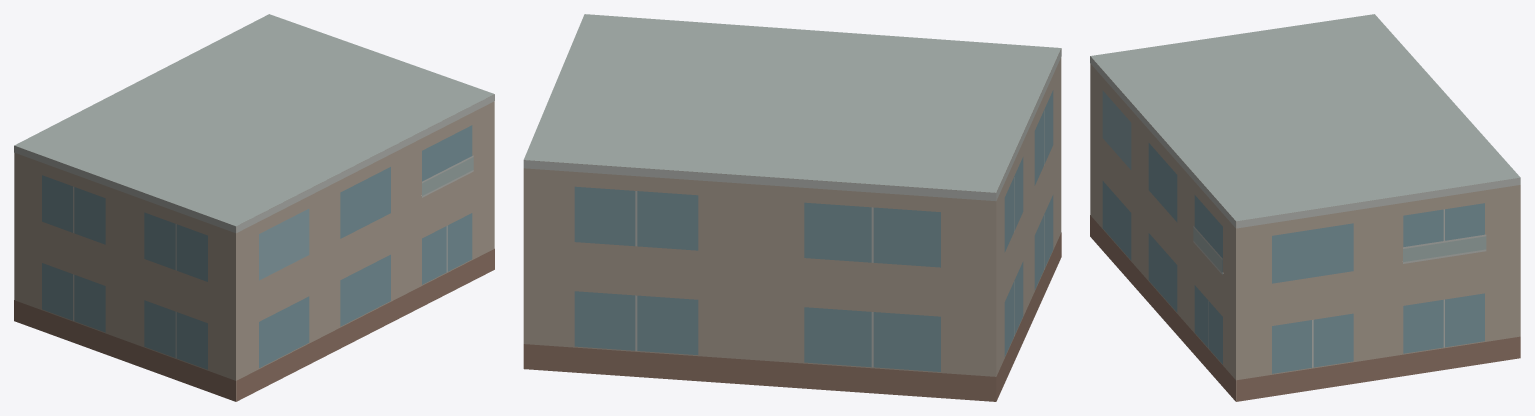
File: survey-upis-32942415.glb
The picture shows the model from 3 angles, left to right: view 1: azimuth 30°, elevation 25°; view 2: azimuth 150°, elevation 25°; view 3: azimuth 270°, elevation 25°; orthographic projection. The views are drawn at different scales.
Visible parts, largest first — view 1: survey-upis-32942415.tmp; view 2: survey-upis-32942415.tmp; view 3: survey-upis-32942415.tmp.
Part boxes in pixels (x1,y1,x2,y2): survey-upis-32942415.tmp: (14,14,494,401); survey-upis-32942415.tmp: (523,14,1061,401); survey-upis-32942415.tmp: (1090,14,1520,401).
Size of the model in its own units: 15.04 by 6.1 by 13.19.
